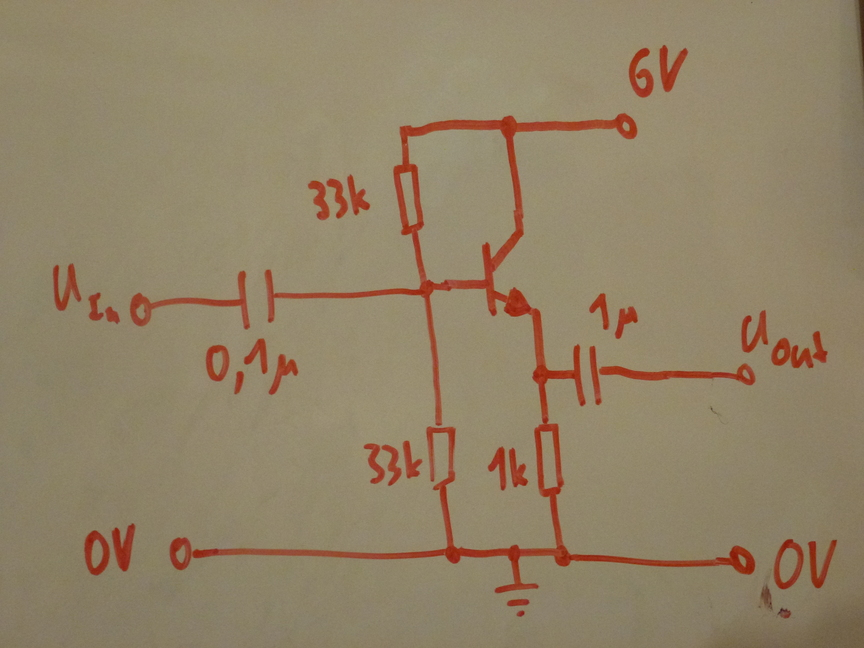capacitor.unpolarized: (224, 262, 291, 334), (562, 339, 616, 414)
gnd: (489, 578, 544, 624)
junction: (409, 274, 446, 305), (548, 539, 577, 572), (495, 111, 524, 142), (436, 540, 466, 568), (528, 360, 554, 388), (391, 120, 418, 142), (501, 541, 525, 565)
resistor: (530, 414, 573, 503), (387, 155, 432, 239), (422, 416, 463, 497)
terminal: (164, 532, 202, 577), (723, 539, 761, 582), (123, 288, 161, 330), (608, 107, 644, 147), (731, 359, 760, 391)
text: (733, 301, 831, 370), (200, 335, 302, 400), (46, 259, 123, 329), (619, 36, 695, 105), (768, 533, 841, 597), (303, 168, 377, 230), (358, 434, 424, 494), (79, 520, 141, 582), (583, 285, 646, 343), (480, 440, 531, 497)
transistor: (470, 219, 554, 330)
